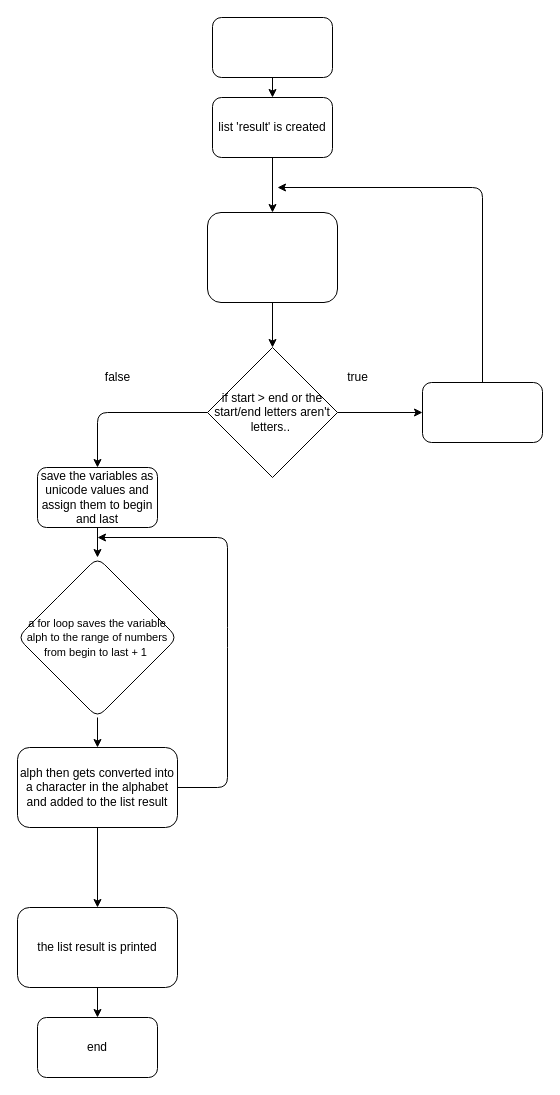
The diagram is 560 pixels wide and 1095 high, and some of its shapes have lost their labels. The box of each missing label's shape, as (x1, y1, x2, y2) in pixels:
enter the starting and ender the ending letter: (206, 212, 338, 302)
print eror messages and continue: (422, 382, 542, 442)
start: (212, 16, 332, 78)
